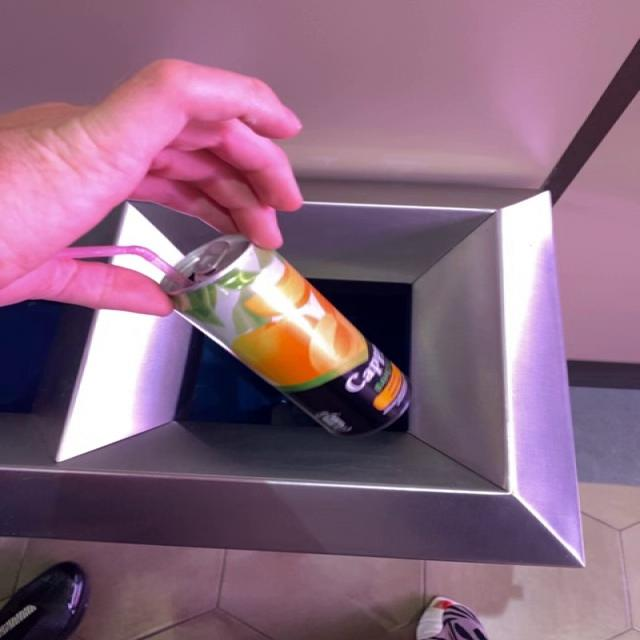bin: (1, 182, 584, 568), (3, 182, 584, 568)
metal: (67, 235, 411, 436)
